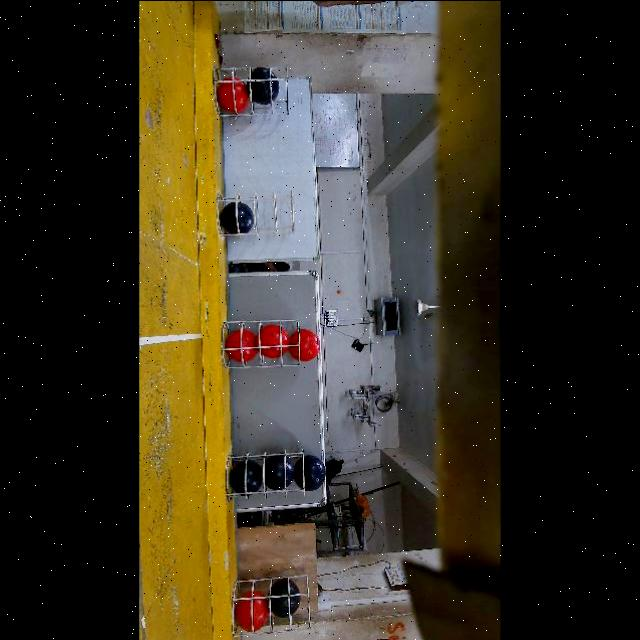P: (229, 459, 262, 498), (293, 454, 326, 491), (247, 65, 279, 103), (269, 577, 299, 616), (219, 201, 253, 233), (264, 454, 294, 488)
R: (234, 589, 268, 631), (216, 75, 249, 112), (224, 330, 258, 364), (259, 326, 291, 360), (288, 328, 320, 361)
S: (228, 574, 310, 636), (225, 446, 305, 508), (218, 188, 296, 246), (214, 66, 292, 118), (222, 319, 302, 367)
